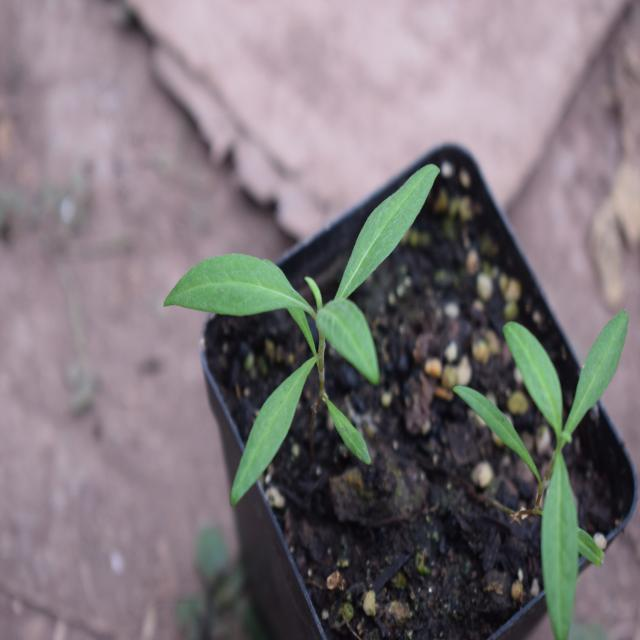white_smart_weed: (146, 140, 455, 527), (461, 292, 638, 624)
